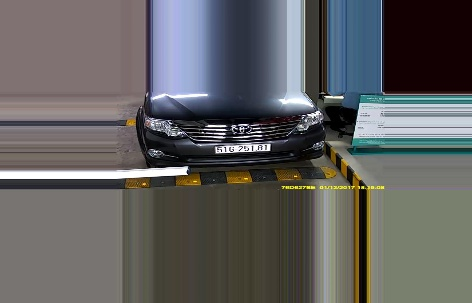plate: (213, 142, 274, 154)
